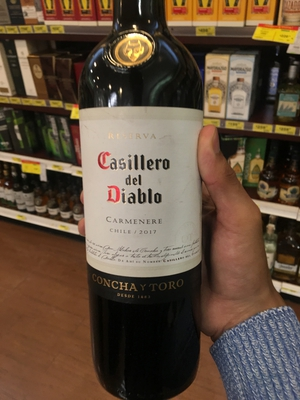casillero del diablo carmenere: (63, 12, 221, 389)
